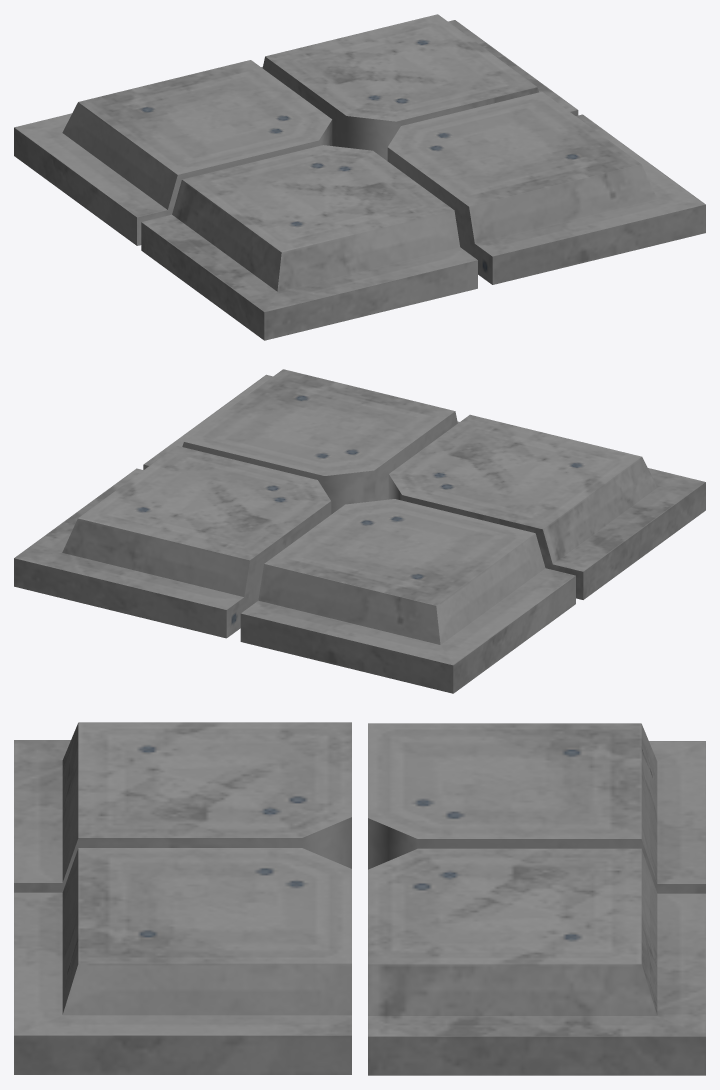
The model's file is MB_Cargo_Parasol.fbx.
The picture shows the model from 3 angles, top to bottom: view 1: azimuth 30°, elevation 25°; view 2: azimuth 150°, elevation 25°; view 3: azimuth 270°, elevation 25°; orthographic projection. The views are drawn at different scales.
Parts seen in each view (by area): view 1: MB_Cargo_Parasol; view 2: MB_Cargo_Parasol; view 3: MB_Cargo_Parasol.
Boxes of the visible parts, x1,y1,x2,y2 form: MB_Cargo_Parasol: [14, 14, 705, 340]; MB_Cargo_Parasol: [14, 369, 705, 693]; MB_Cargo_Parasol: [14, 722, 705, 1075].
Bounding box in the file's own units: 68.84 × 9.09 × 67.9.
